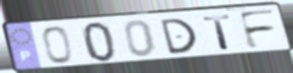0: (81, 21, 118, 64), (40, 25, 78, 66), (122, 18, 158, 59)
D: (158, 17, 199, 56)
F: (236, 8, 278, 51)
T: (201, 13, 234, 51)
